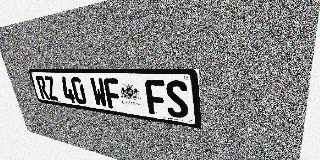0: (70, 77, 87, 105)
4: (59, 76, 76, 103)
F: (144, 79, 167, 116), (103, 78, 123, 110)
R: (35, 76, 50, 100)
S: (165, 80, 189, 119)
W: (89, 77, 108, 108)
Z: (43, 76, 59, 101)
